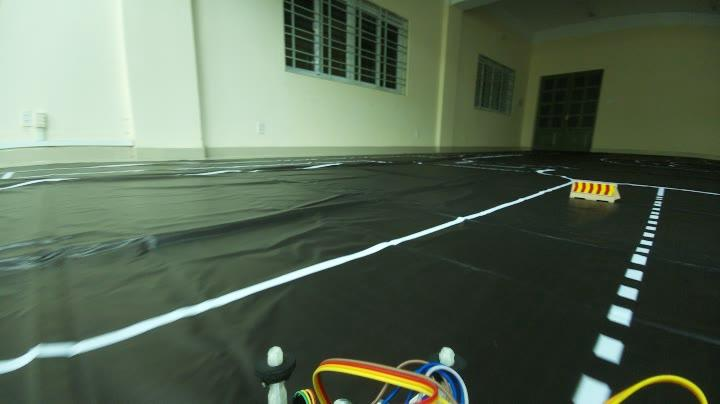roadblock: (567, 174, 623, 210)
